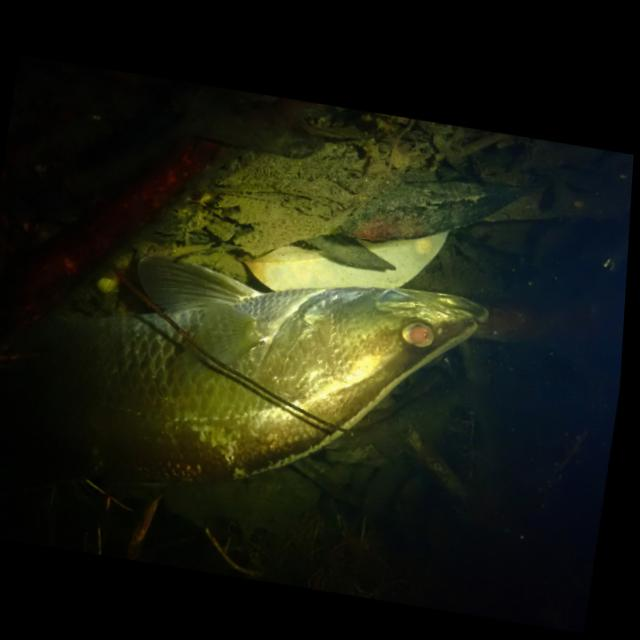Seabass: (0, 220, 493, 538)
